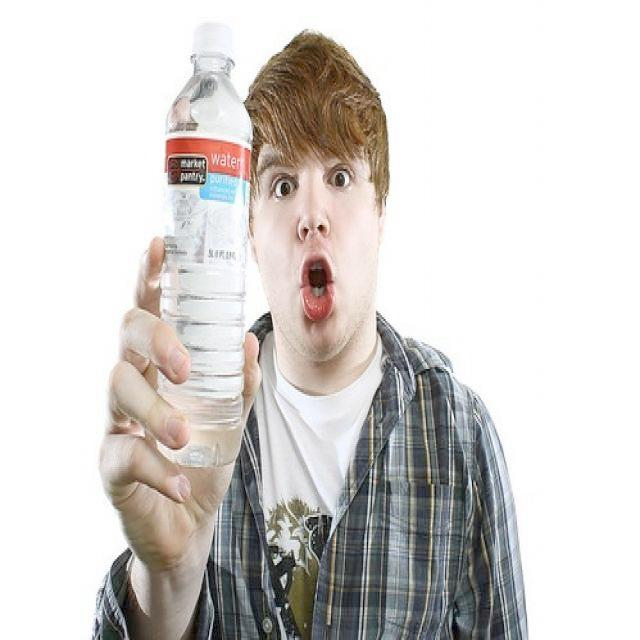bottle: (156, 22, 254, 468)
